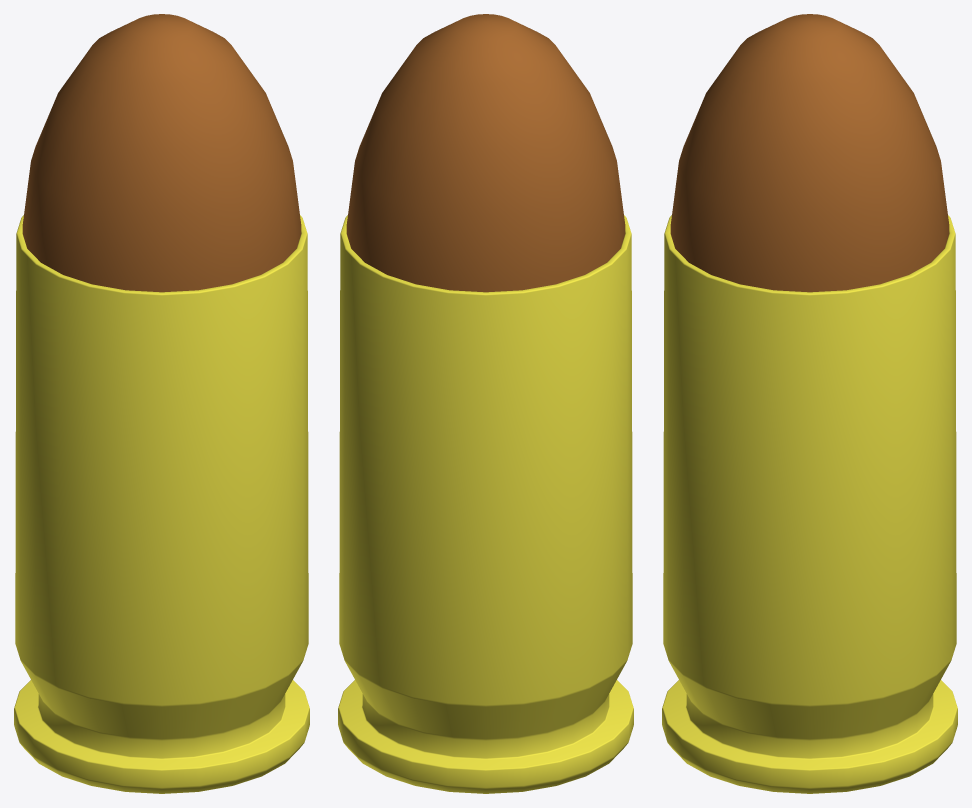
File: 45ACP-High-Poly-Smooth-Beveled.fbx
3 renders of one model, left to right at view 1: azimuth 30°, elevation 25°; view 2: azimuth 150°, elevation 25°; view 3: azimuth 270°, elevation 25°, orthographic.
Parts seen in each view (by area): view 1: Case, Bullet; view 2: Case, Bullet; view 3: Case, Bullet.
Boxes of the visible parts, <box> form: Case: <box>14,215,309,793</box>; Bullet: <box>22,14,301,292</box>; Case: <box>338,215,633,793</box>; Bullet: <box>346,14,625,292</box>; Case: <box>662,215,957,793</box>; Bullet: <box>670,14,949,292</box>.
Bounding box in the file's own units: 1.22 × 3.24 × 1.22.
